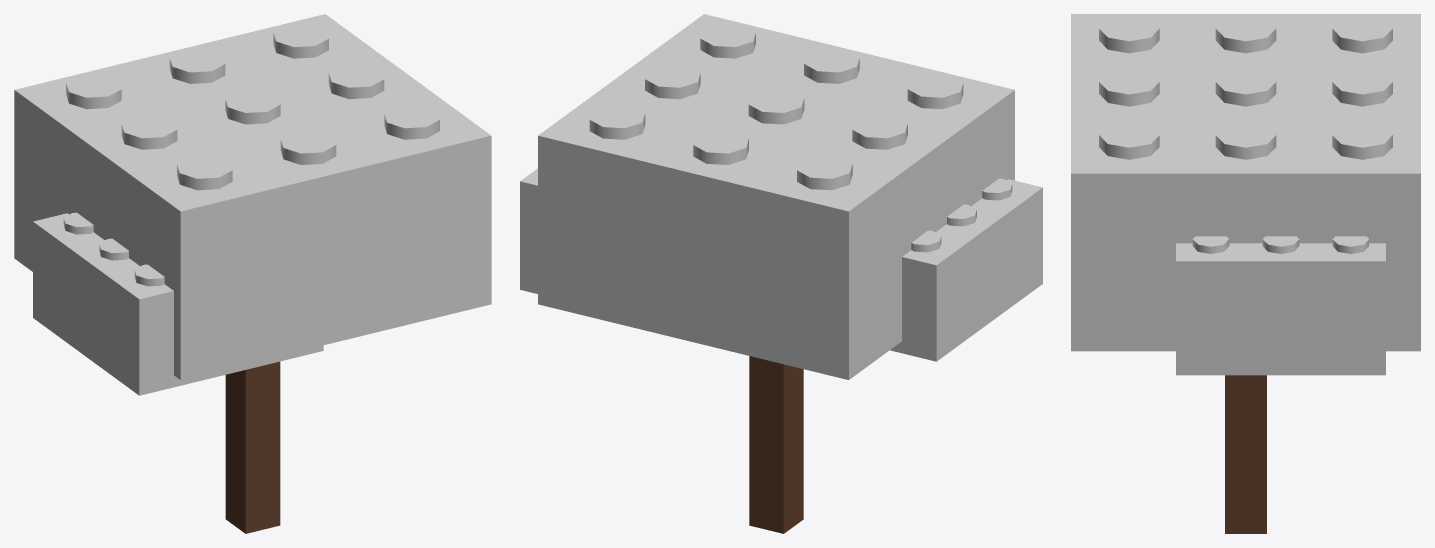
The model's file is LegoOak.glb.
3 views of the same model, side by side, from view 1: azimuth 30°, elevation 25°; view 2: azimuth 150°, elevation 25°; view 3: azimuth 270°, elevation 25° (orthographic). The views are drawn at different scales.
Visible parts, largest first — view 1: LegoOak; view 2: LegoOak; view 3: LegoOak.
Boxes of the visible parts, x1,y1,x2,y2 form: LegoOak: [14, 14, 491, 533]; LegoOak: [520, 14, 1042, 533]; LegoOak: [1071, 14, 1420, 533].
Bounding box in the file's own units: 6.6 × 6.99 × 5.
